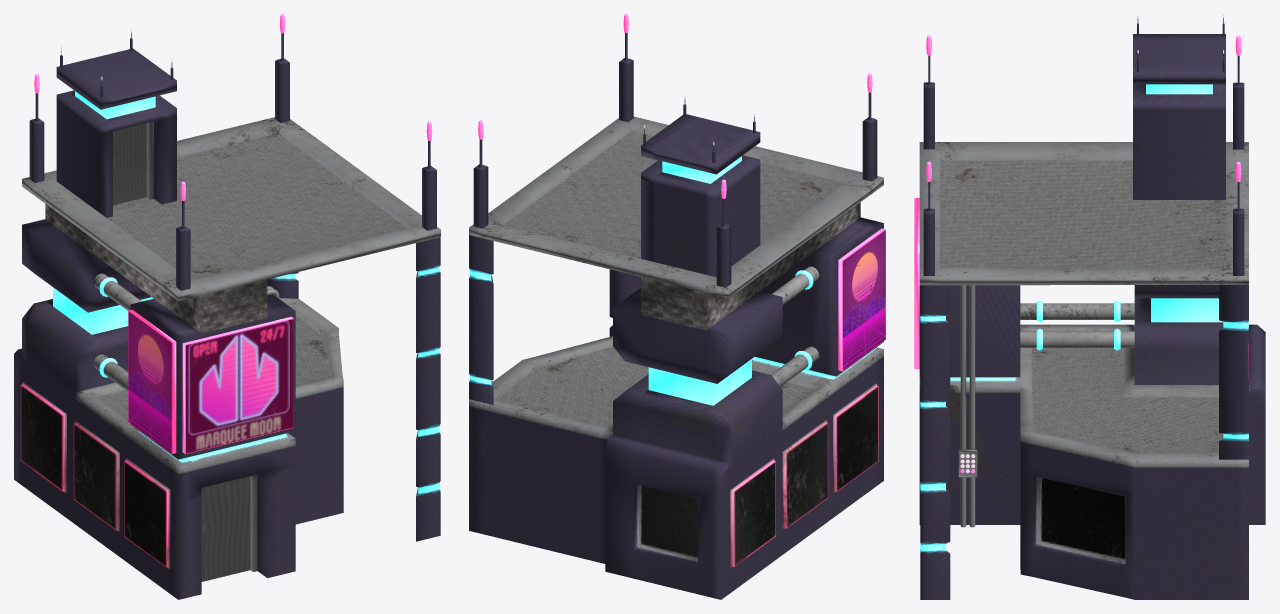
3 renders of one model, left to right at view 1: azimuth 30°, elevation 25°; view 2: azimuth 150°, elevation 25°; view 3: azimuth 270°, elevation 25°, orthographic. The views are drawn at different scales.
Visible parts, largest first — view 1: cyberpunk_house; view 2: cyberpunk_house; view 3: cyberpunk_house.
Boxes of the visible parts, x1,y1,x2,y2 form: cyberpunk_house: (14, 14, 440, 599); cyberpunk_house: (469, 14, 885, 599); cyberpunk_house: (914, 14, 1265, 599).
Bounding box in the file's own units: 1.27 × 2 × 1.37.
Materials: 1 (1 with a texture image).
